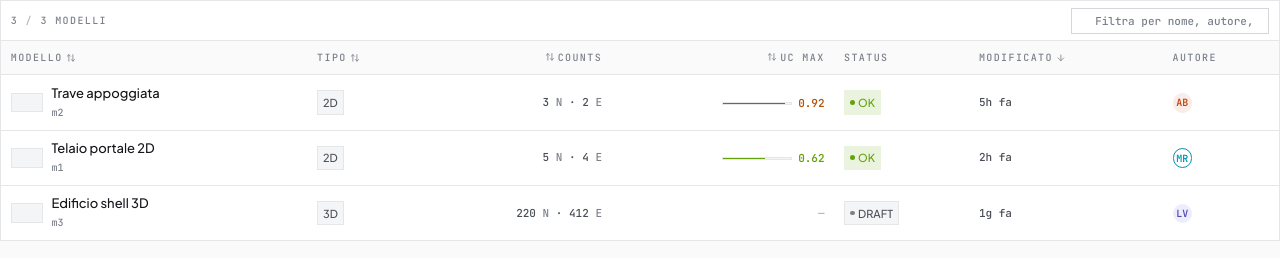
ModelsTable › filter with no matches shows 'Nessun risultato'
Type "xyznomatch" into the field with test id "models-filter".
click(1170, 20); type("xyznomatch")  # box [1071,8,1269,34]
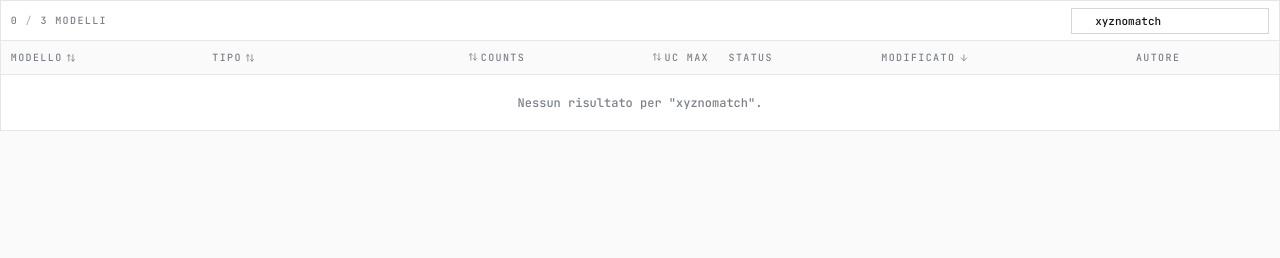
Check: the text "Nessun risultato per \"xyznomatch\"." is shown, box [1,75,1279,130]
